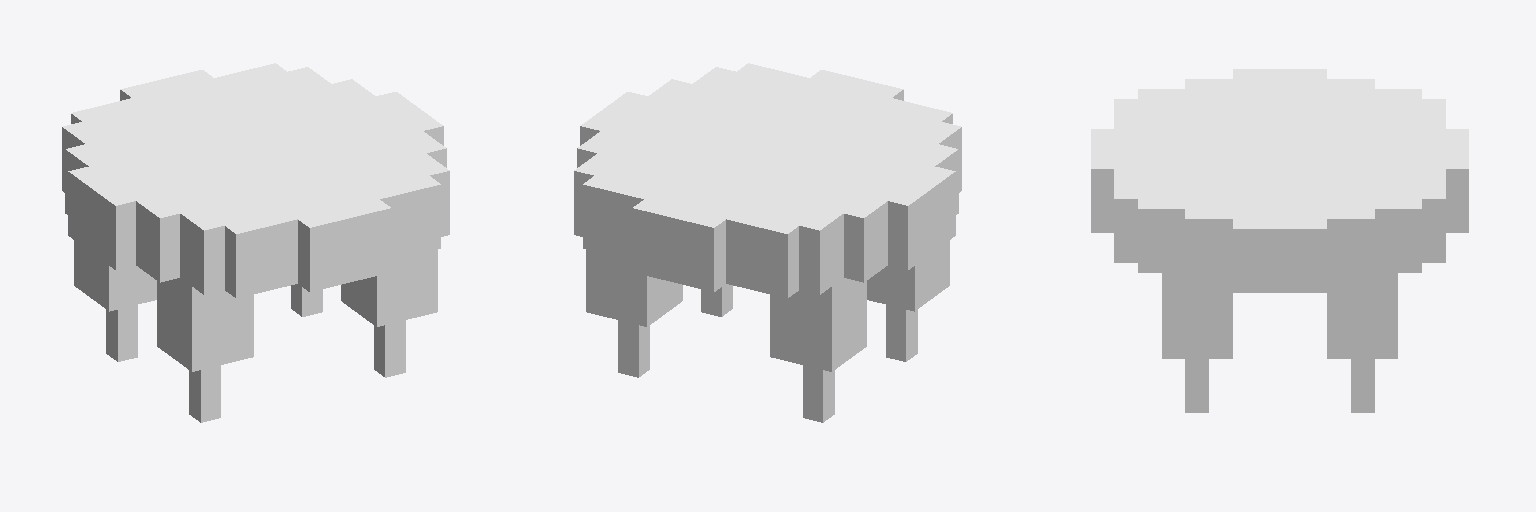
Rendered from greenpadsmall.obj.
3 views of the same model, side by side, from view 1: azimuth 30°, elevation 25°; view 2: azimuth 150°, elevation 25°; view 3: azimuth 270°, elevation 25° (orthographic).
Bounding box in the file's own units: 16 × 10 × 16.